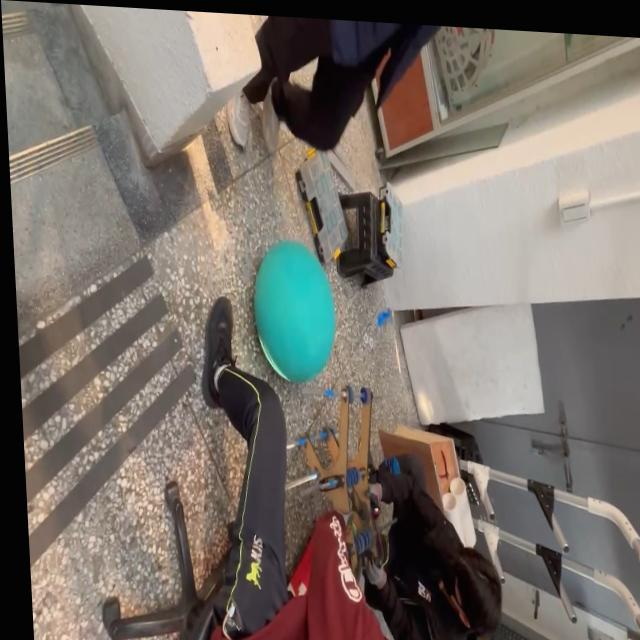ALGAE: (248, 236, 340, 387)
